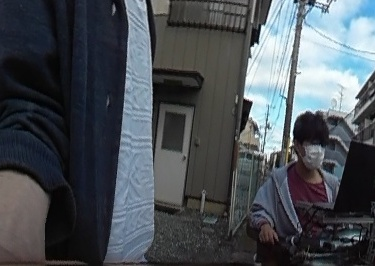person: (249, 106, 337, 266)
